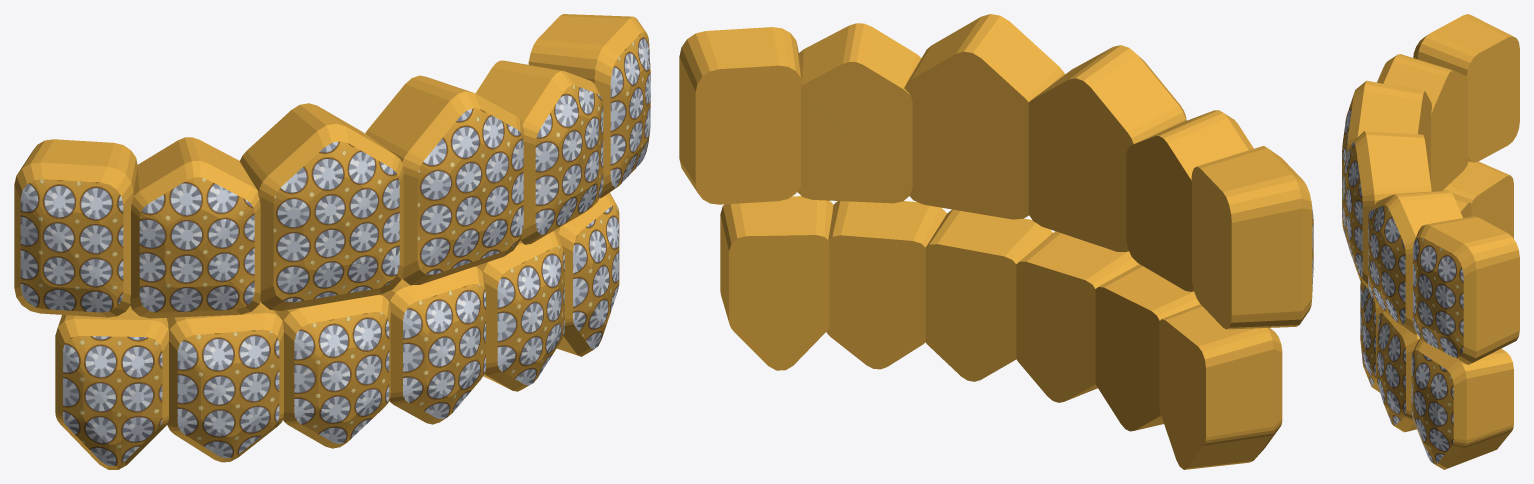
File: grillz.obj
The picture shows the model from 3 angles, left to right: view 1: azimuth 30°, elevation 25°; view 2: azimuth 150°, elevation 25°; view 3: azimuth 270°, elevation 25°; orthographic projection. The views are drawn at different scales.
Parts seen in each view (by area): view 1: Grillz; view 2: Grillz; view 3: Grillz.
Boxes of the visible parts, x1,y1,x2,y2 form: Grillz: [14, 14, 650, 469]; Grillz: [679, 14, 1313, 469]; Grillz: [1342, 14, 1519, 469].
Bounding box in the file's own units: 1.57 × 0.808 × 0.4832.
Materials: 1 (1 with a texture image).
